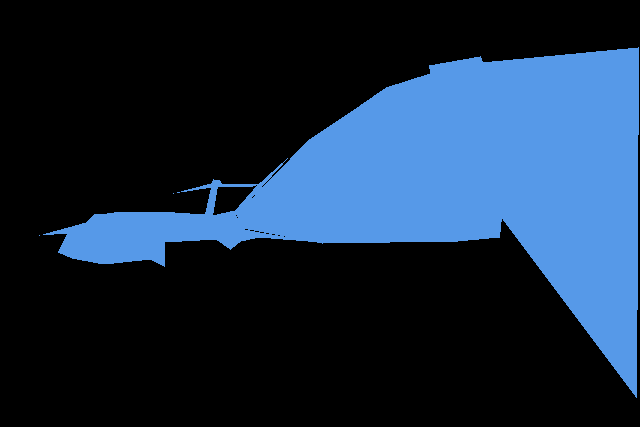Airplane: (236, 47, 639, 398), (39, 158, 320, 266)
